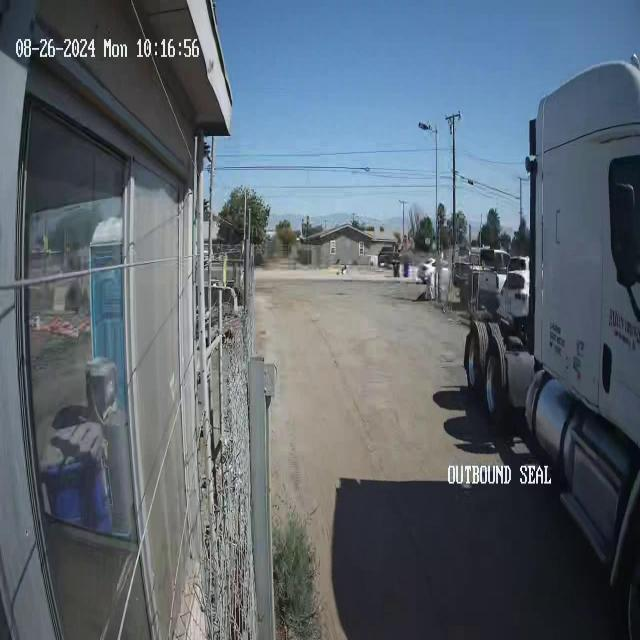BOBTAIL: (462, 60, 640, 580)
